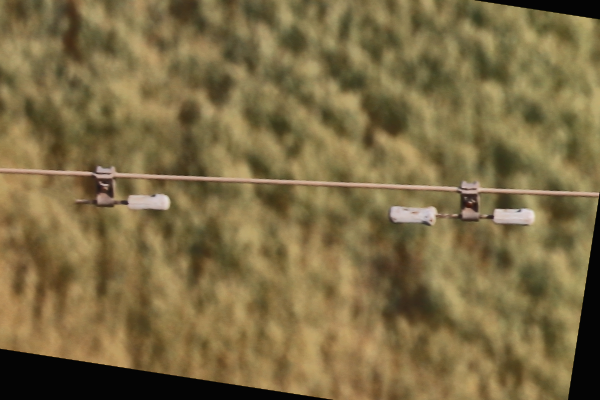damper: (386, 177, 538, 229)
damper_defect: (69, 163, 172, 213)
